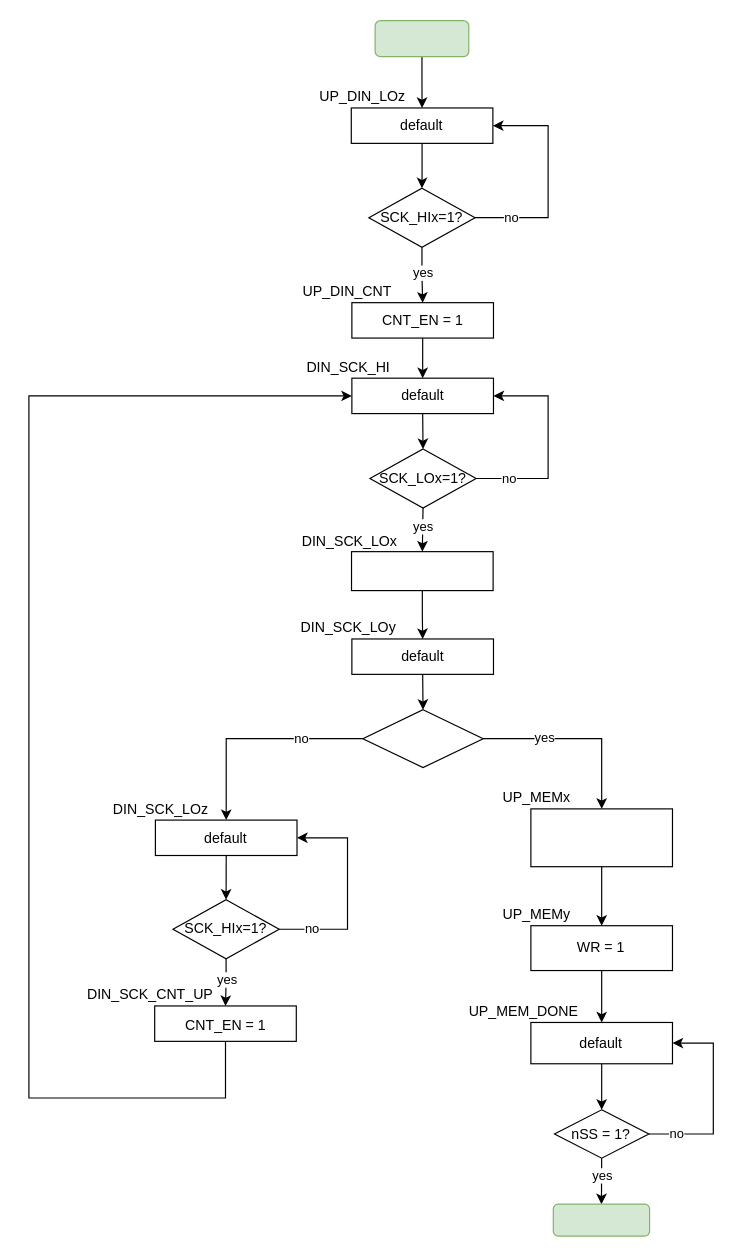
The diagram is 743 pixels wide and 1257 high, and some of its shapes have lost their labels. Here are the shapes that lost their labels. From the top down, the box of each, then its label:
(374, 19, 469, 57): ASM_ADD
(350, 550, 493, 591): SE_DIN = 1
(362, 709, 483, 768): TC32 = 1?
(530, 808, 672, 867): DIN_EN = 1 ADD_EN = 1
(552, 1203, 650, 1236): ASM_CMD
